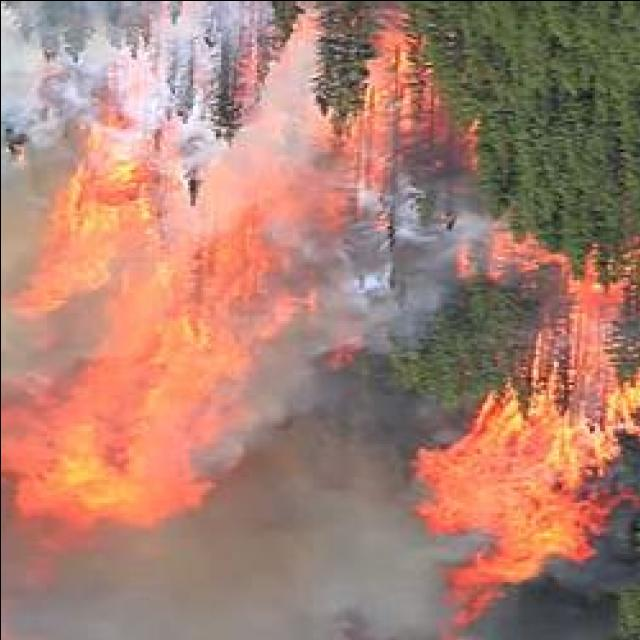fire: (36, 403, 182, 498), (476, 423, 564, 534)
smoke: (308, 384, 410, 636), (103, 530, 335, 636), (351, 184, 419, 338), (0, 164, 36, 382), (504, 587, 636, 640), (0, 4, 45, 130), (602, 508, 634, 590)
